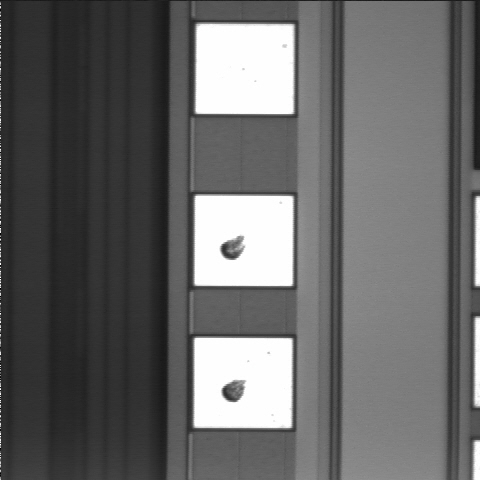pad: (196, 24, 294, 114), (195, 196, 293, 286), (194, 338, 292, 428)
